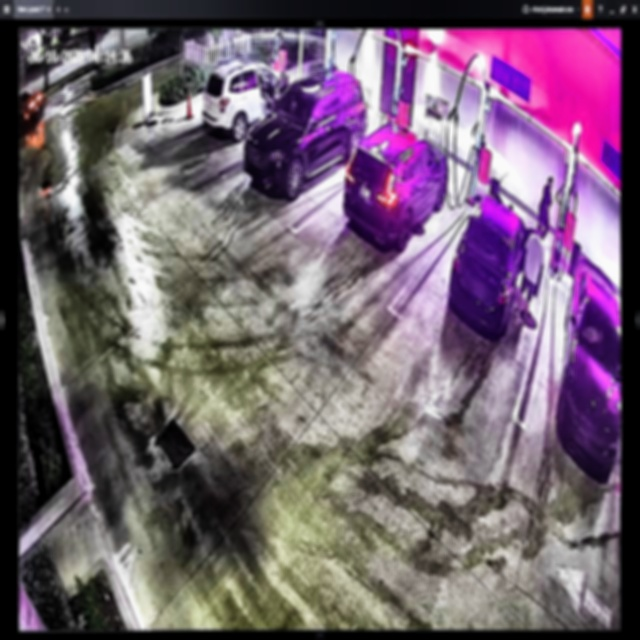Car: (241, 70, 368, 192), (344, 124, 449, 250), (456, 196, 528, 334), (205, 59, 300, 141)
